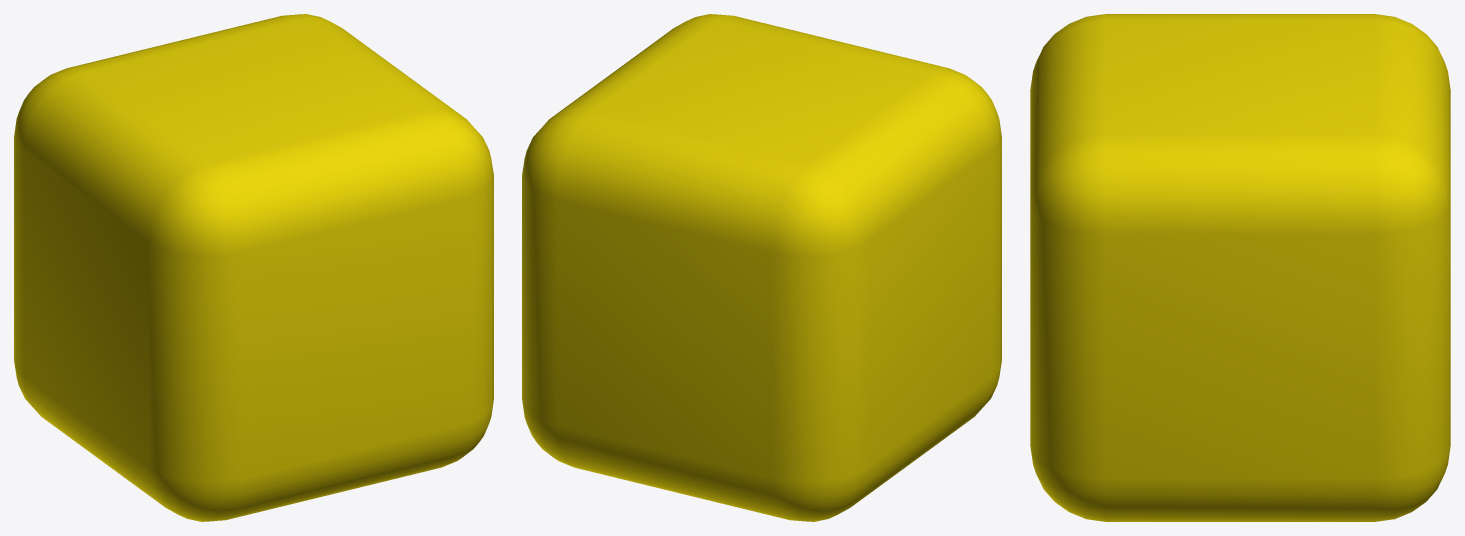
3 renders of one model, left to right at view 1: azimuth 30°, elevation 25°; view 2: azimuth 150°, elevation 25°; view 3: azimuth 270°, elevation 25°, orthographic. The views are drawn at different scales.
Visible parts, largest first — view 1: 1; view 2: 1; view 3: 1.
Boxes of the visible parts, x1,y1,x2,y2 form: 1: (14, 14, 493, 521); 1: (522, 14, 1001, 521); 1: (1030, 14, 1450, 521).
Bounding box in the file's own units: 100 × 100 × 100.
